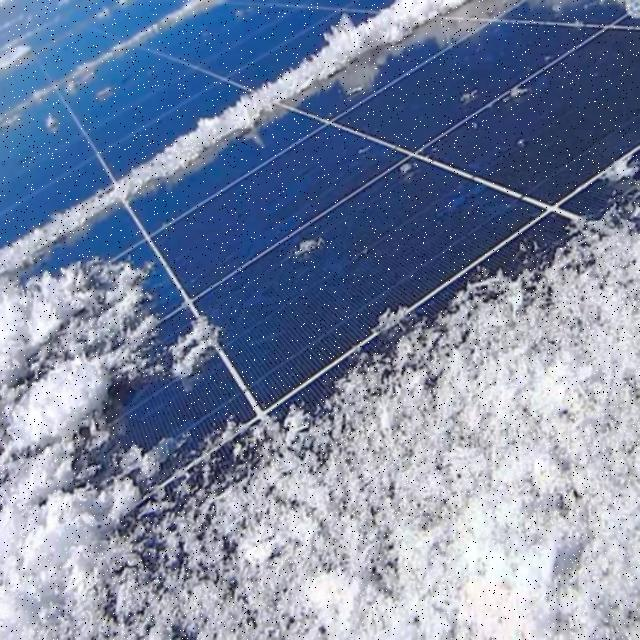snow covered: (2, 3, 633, 635)
